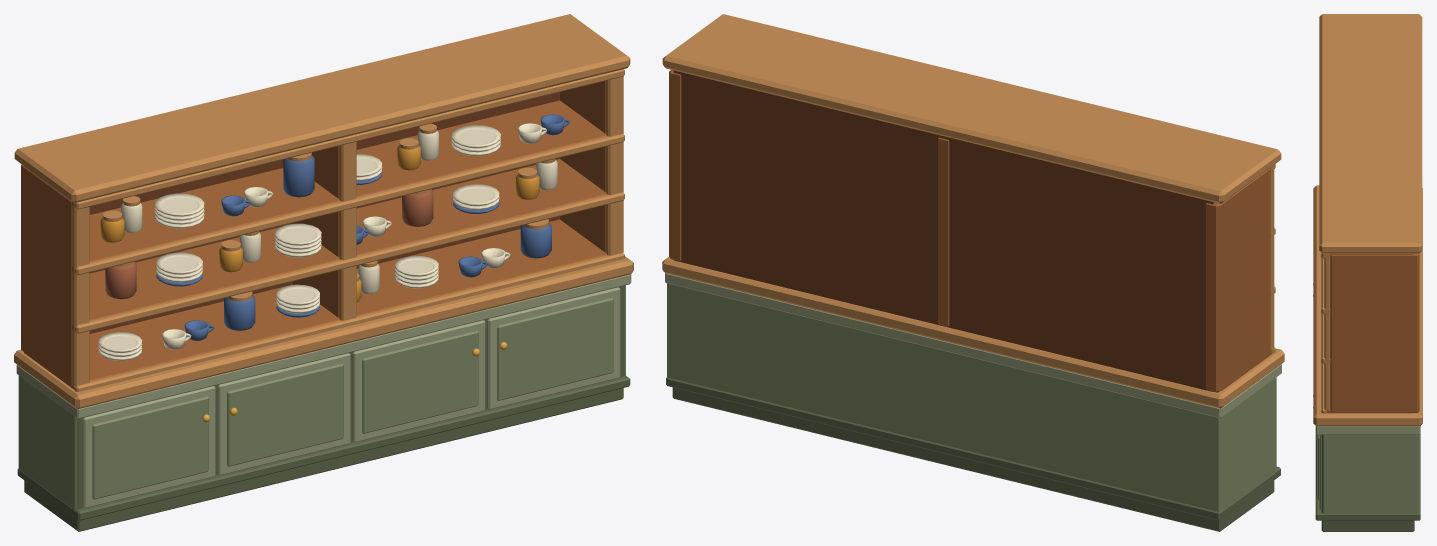
Rendered from service-hutch.glb.
The picture shows the model from 3 angles, left to right: view 1: azimuth 30°, elevation 25°; view 2: azimuth 150°, elevation 25°; view 3: azimuth 270°, elevation 25°; orthographic projection. The views are drawn at different scales.
Parts seen in each view (by area): view 1: service-hutch Furniture; view 2: service-hutch Furniture; view 3: service-hutch Furniture.
Part boxes in pixels (x1=…): service-hutch Furniture: x1=14, y1=14, x2=633, y2=531; service-hutch Furniture: x1=662, y1=14, x2=1284, y2=531; service-hutch Furniture: x1=1313, y1=14, x2=1422, y2=531.
Bounding box in the file's own units: 4.9 × 2.87 × 0.9833.
